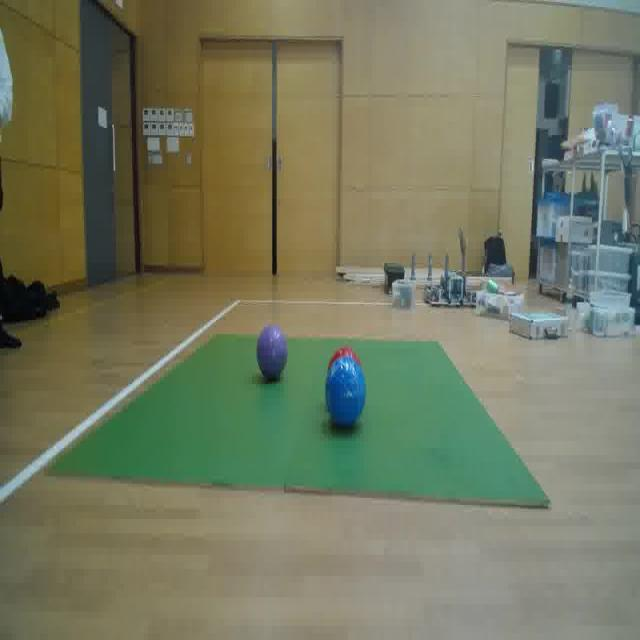blue_ball: (324, 354, 367, 424)
purple_ball: (257, 326, 288, 381)
red_ball: (328, 347, 361, 374)
